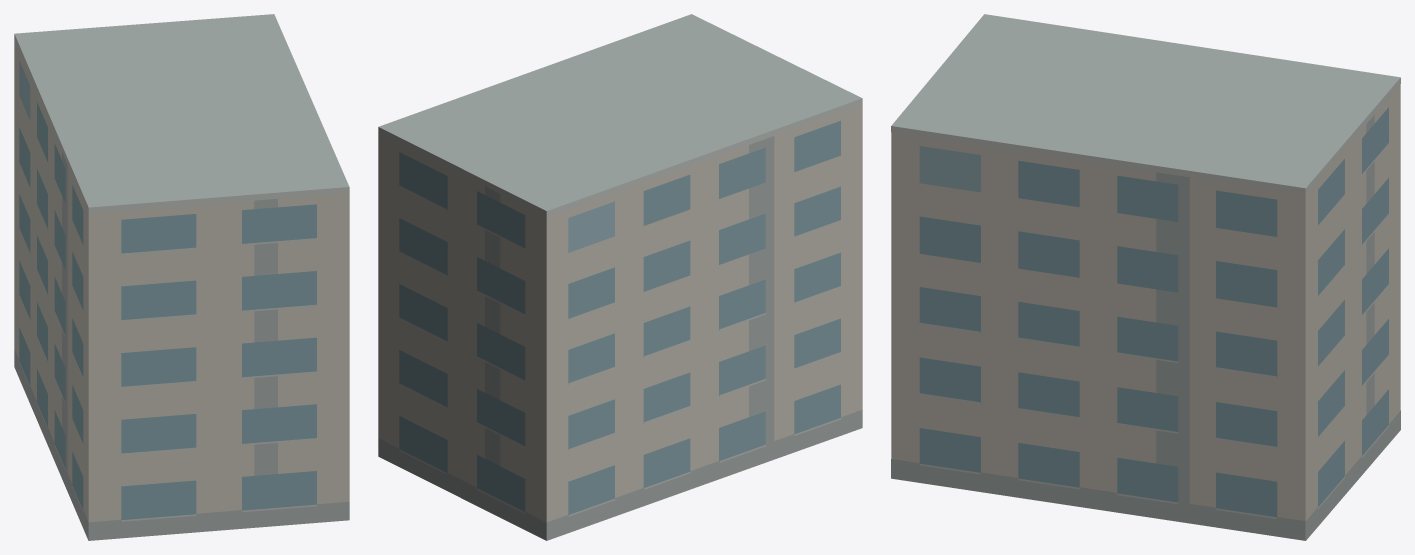
The model's file is survey-upis-32986746.glb.
The picture shows the model from 3 angles, left to right: view 1: azimuth 30°, elevation 25°; view 2: azimuth 150°, elevation 25°; view 3: azimuth 270°, elevation 25°; orthographic projection. The views are drawn at different scales.
Parts seen in each view (by area): view 1: survey-upis-32986746.tmp; view 2: survey-upis-32986746.tmp; view 3: survey-upis-32986746.tmp.
Part boxes in pixels (x1=…): survey-upis-32986746.tmp: x1=14, y1=14, x2=349, y2=540; survey-upis-32986746.tmp: x1=378, y1=14, x2=862, y2=540; survey-upis-32986746.tmp: x1=891, y1=14, x2=1400, y2=540.
Size of the model in its own units: 14 by 13.2 by 17.3.
